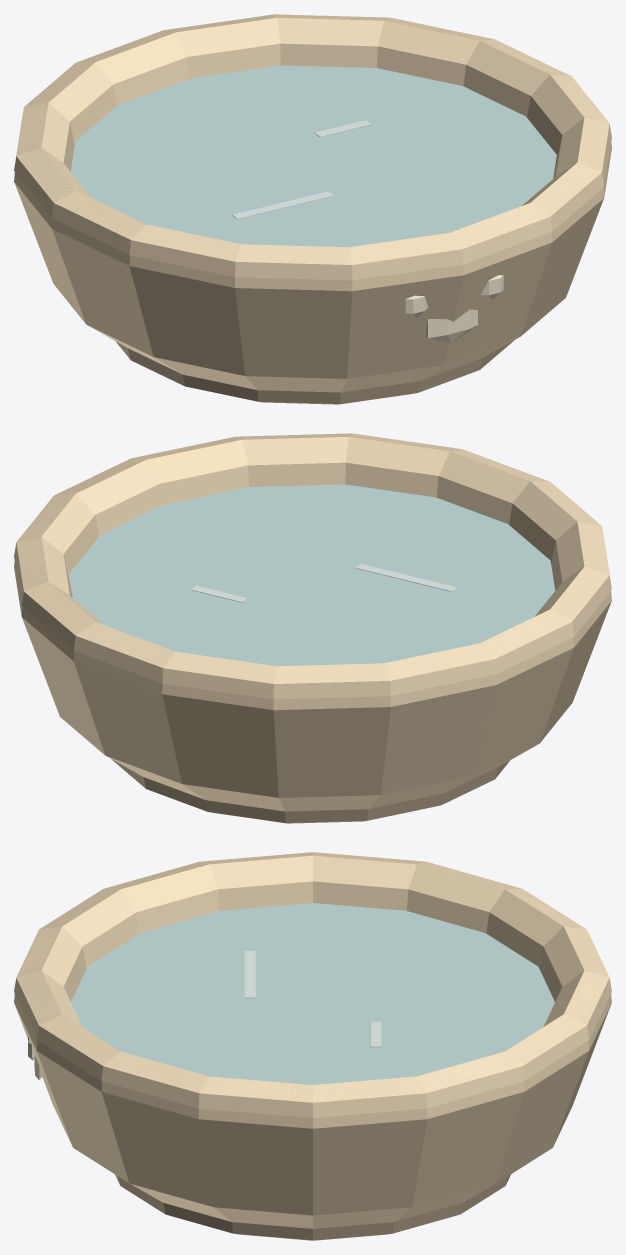
Rendered from crafted-cat-water-3-2.glb.
The picture shows the model from 3 angles, top to bottom: view 1: azimuth 30°, elevation 25°; view 2: azimuth 150°, elevation 25°; view 3: azimuth 270°, elevation 25°; orthographic projection.
Visible parts, largest first — view 1: ceramic-bowl, water-level, glazed-rim, foot-ring, paw-pad, water-glint; view 2: ceramic-bowl, water-level, glazed-rim, foot-ring, water-glint; view 3: ceramic-bowl, water-level, glazed-rim, foot-ring, water-glint.
Part boxes in pixels (left/top/right/bottom): ceramic-bowl: left=14, top=14, right=611, bottom=392; water-level: left=70, top=65, right=556, bottom=247; glazed-rim: left=14, top=14, right=611, bottom=280; foot-ring: left=116, top=340, right=514, bottom=404; paw-pad: left=426, top=309, right=477, bottom=343; water-glint: left=232, top=191, right=333, bottom=219; ceramic-bowl: left=14, top=433, right=611, bottom=811; water-level: left=69, top=484, right=555, bottom=666; glazed-rim: left=14, top=433, right=611, bottom=699; foot-ring: left=111, top=759, right=509, bottom=823; water-glint: left=356, top=564, right=457, bottom=591; ceramic-bowl: left=14, top=852, right=611, bottom=1228; water-level: left=71, top=903, right=554, bottom=1084; glazed-rim: left=14, top=852, right=611, bottom=1117; foot-ring: left=115, top=1174, right=510, bottom=1240; water-glint: left=244, top=951, right=255, bottom=998.
Bounding box in the file's own units: 0.76 × 0.265 × 0.76.
